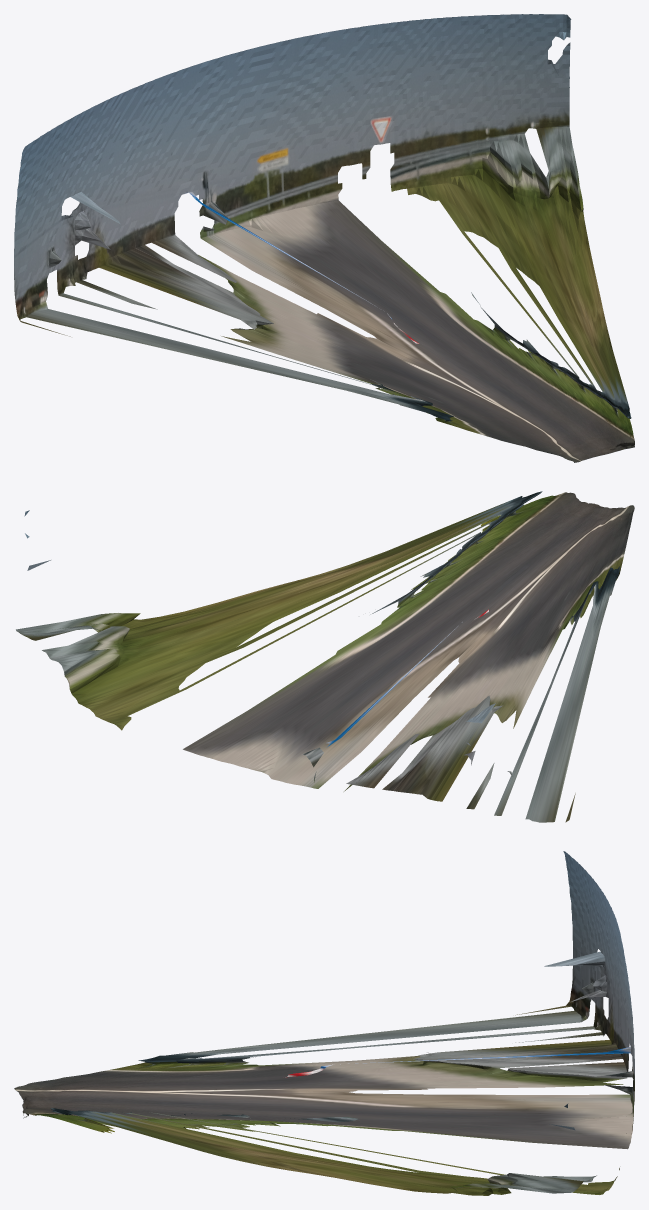
The picture shows the model from 3 angles, top to bottom: view 1: azimuth 30°, elevation 25°; view 2: azimuth 150°, elevation 25°; view 3: azimuth 270°, elevation 25°; orthographic projection. The views are drawn at different scales.
Visible parts, largest first — view 1: defaultobject; view 2: defaultobject; view 3: defaultobject.
Part boxes in pixels (x1,y1,x2,y2): defaultobject: [14, 14, 634, 462]; defaultobject: [16, 491, 634, 822]; defaultobject: [14, 851, 634, 1195].
Bounding box in the file's own units: 41.16 × 13.29 × 44.86.
Materials: 1 (1 with a texture image).
